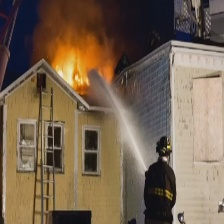fire: (49, 58, 92, 93)
smoke: (32, 1, 119, 55)
